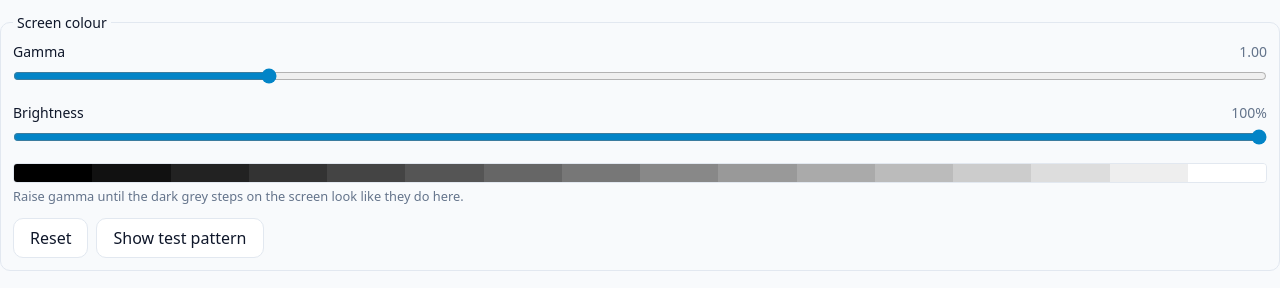
Test case: Calibration › sends one PUT with the last value after quick slider moves
The width and height of the screenshot is (1280, 288).
Set the slider labelled "Gamma" to "1.2" at [368, 76], box x1=13 y1=68 x2=1267 y2=84
Wait 100 ms
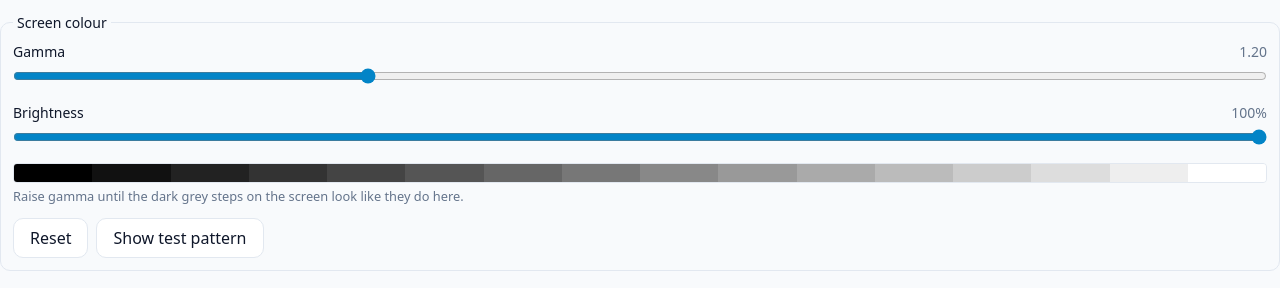
Set the slider labelled "Gamma" to "1.6" at [566, 76], box x1=13 y1=68 x2=1267 y2=84
Wait 100 ms
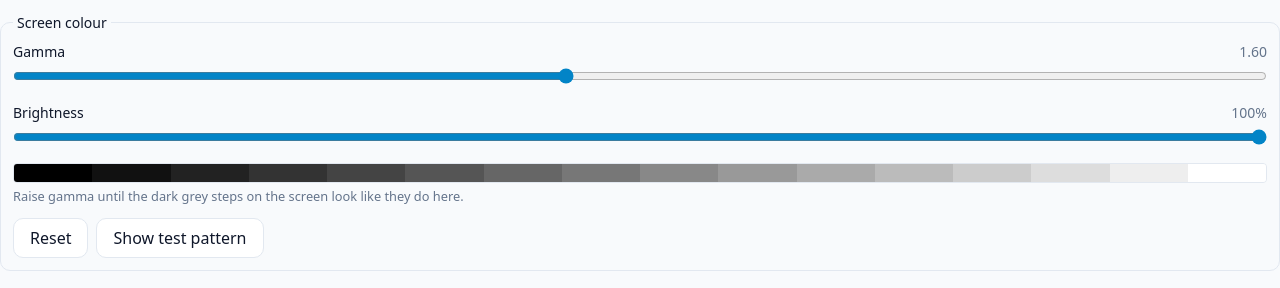
Set the slider labelled "Gamma" to "2.25" at [888, 76], box x1=13 y1=68 x2=1267 y2=84
Wait 150 ms
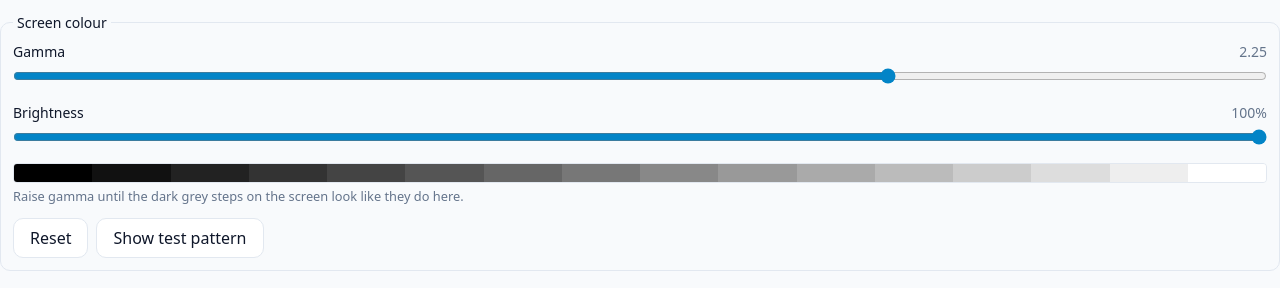
expect the text "2.25" is shown: met, box x1=1239 y1=41 x2=1267 y2=62
